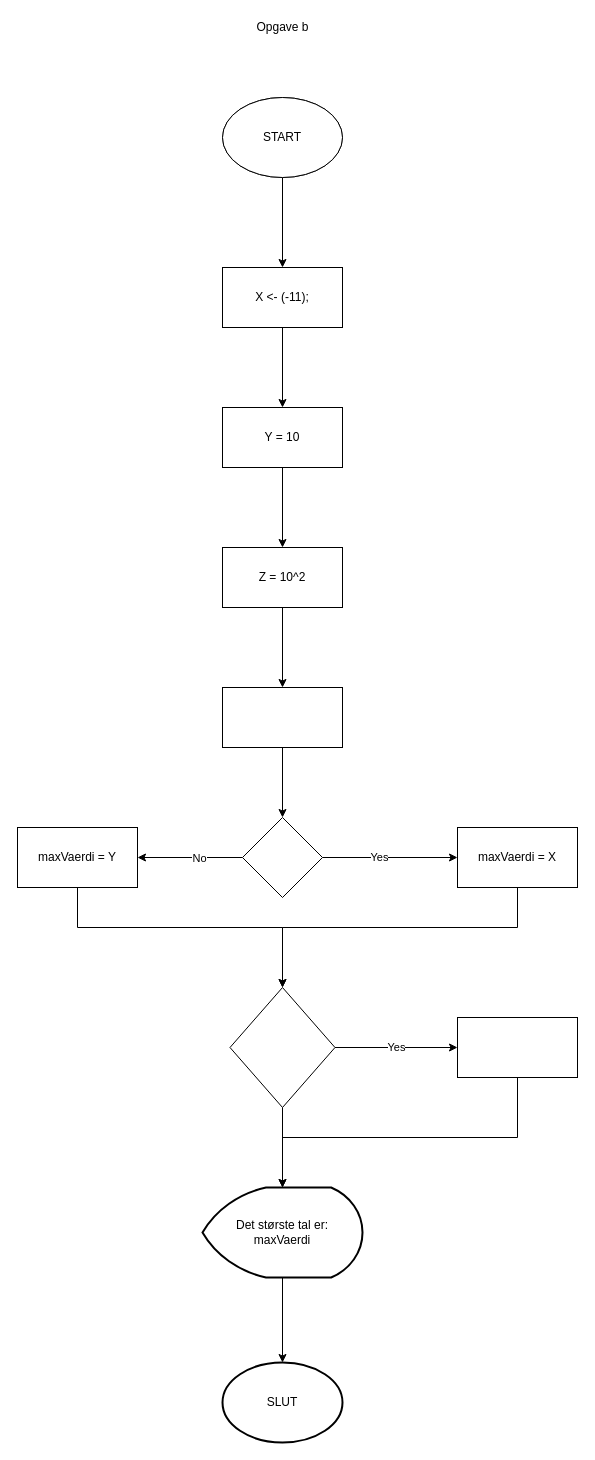
Image size: 595x1460. Some labels were removed from this diagram. Each missing label, with the centre of its shape:
"maxVaerdi = 0" belongs at (x=282, y=717).
"maxVaerdi = Z" belongs at (x=517, y=1047).
"X > Y?" belongs at (x=282, y=857).
"Z > maxVaerdi?" belongs at (x=282, y=1047).
